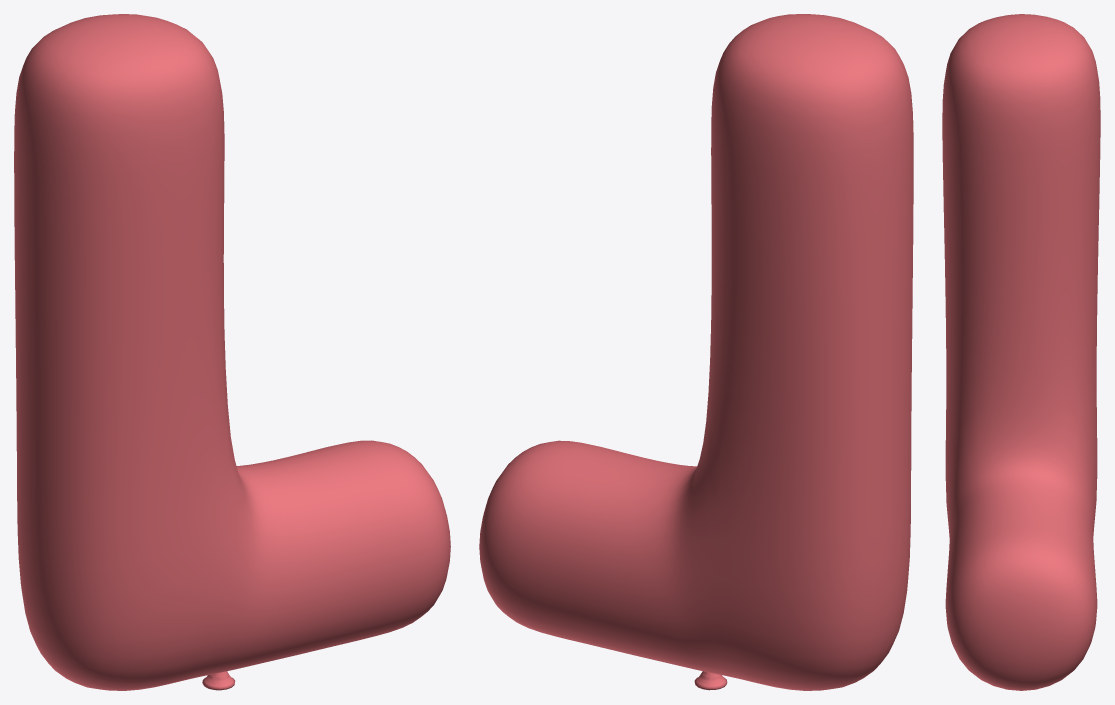
File: LetterL.glb
The picture shows the model from 3 angles, left to right: view 1: azimuth 30°, elevation 25°; view 2: azimuth 150°, elevation 25°; view 3: azimuth 270°, elevation 25°; orthographic projection. The views are drawn at different scales.
Parts seen in each view (by area): view 1: L1; view 2: L1; view 3: L1.
Part boxes in pixels (<box>): L1: <box>14,14,450,690</box>; L1: <box>479,14,913,690</box>; L1: <box>942,14,1100,690</box>.
Bounding box in the file's own units: 1.96 × 3.16 × 0.7928.
